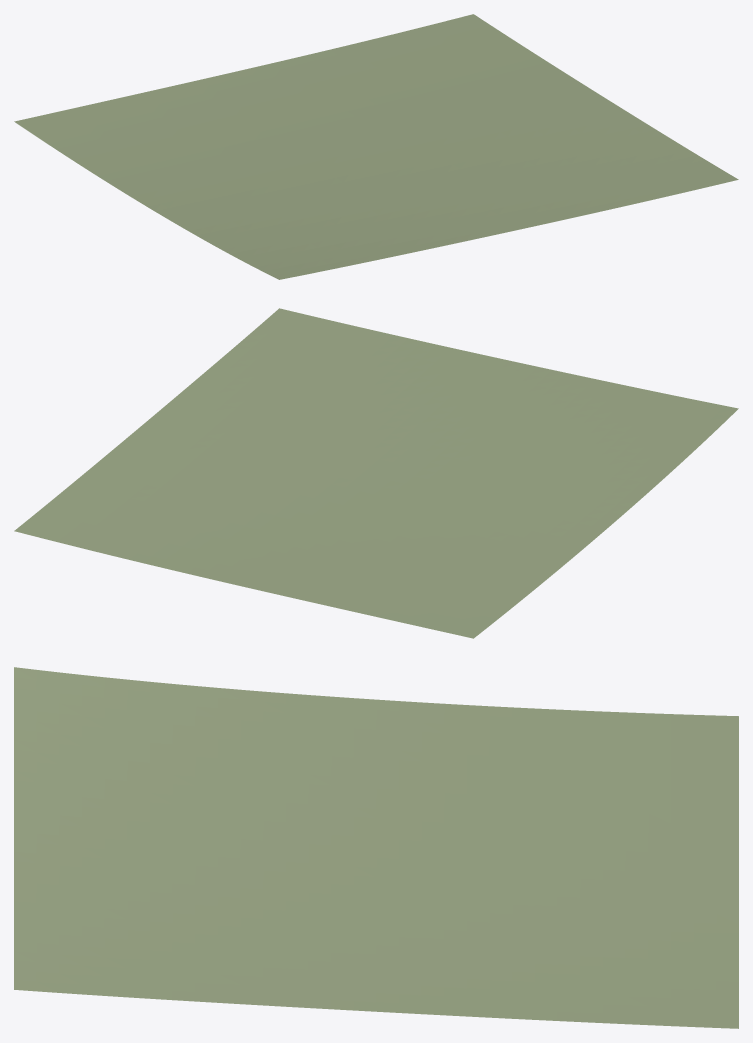
The model's file is expanse-24-26.glb.
3 renders of one model, top to bottom at view 1: azimuth 30°, elevation 25°; view 2: azimuth 150°, elevation 25°; view 3: azimuth 270°, elevation 25°, orthographic. The views are drawn at different scales.
Visible parts, largest first — view 1: expanse-24-26; view 2: expanse-24-26; view 3: expanse-24-26.
Boxes of the visible parts, left/top/right/bottom form: expanse-24-26: left=14, top=14, right=738, bottom=279; expanse-24-26: left=14, top=308, right=738, bottom=638; expanse-24-26: left=14, top=667, right=738, bottom=1028.
Bounding box in the file's own units: 256 × 21.91 × 256.
